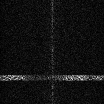wifi: (1, 74, 104, 80)
